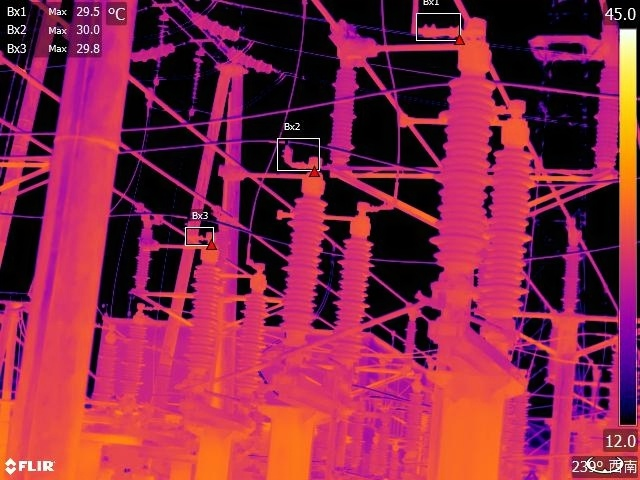clamp: (142, 81, 159, 114)
insulator: (225, 41, 282, 80), (186, 8, 243, 46), (130, 37, 182, 64), (149, 17, 169, 83), (187, 52, 203, 116)
post insulator: (425, 34, 503, 273), (480, 125, 545, 314), (275, 190, 333, 349), (326, 228, 381, 364), (180, 256, 226, 385), (228, 288, 275, 394), (588, 51, 619, 167), (327, 60, 361, 164), (120, 313, 150, 402), (128, 223, 158, 288), (559, 240, 586, 312)
switch: (344, 10, 495, 79), (399, 106, 539, 150), (212, 157, 331, 202), (273, 203, 376, 239), (150, 234, 226, 267), (217, 264, 274, 291)
